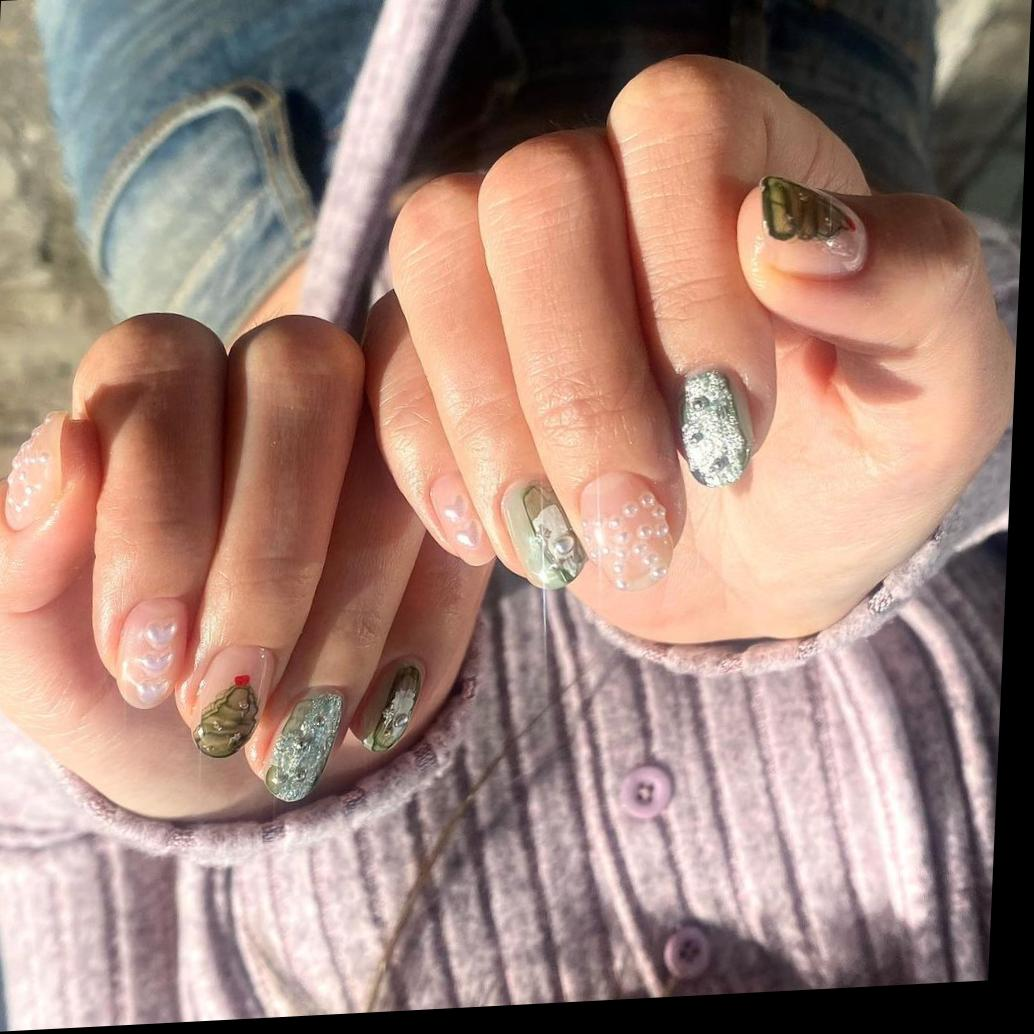nail: (575, 467, 678, 596), (755, 169, 871, 283), (497, 473, 591, 594), (190, 644, 278, 760), (262, 687, 346, 805), (676, 366, 755, 491), (114, 595, 189, 711), (1, 408, 70, 533), (351, 654, 426, 755), (425, 469, 488, 554)
